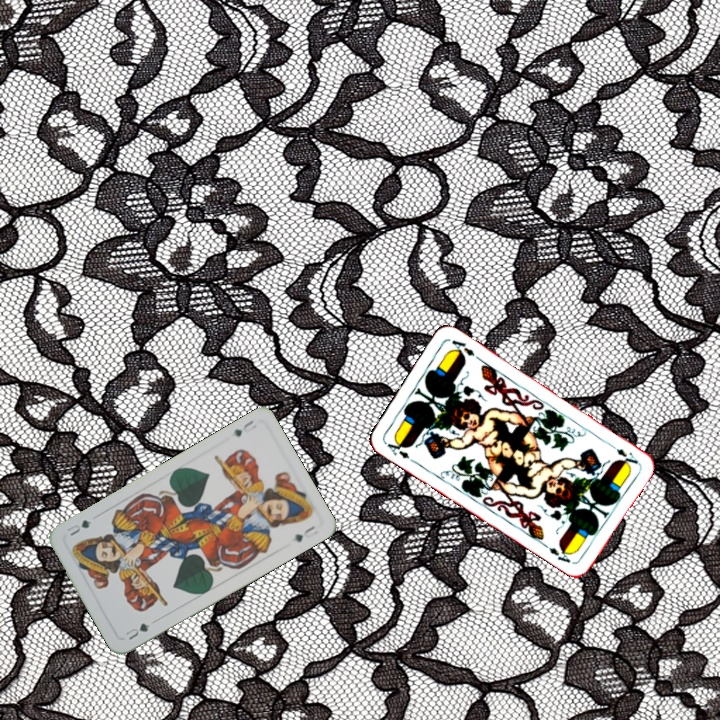EA: (605, 439, 641, 467), (381, 436, 412, 461)
GU: (120, 619, 153, 643), (229, 416, 258, 439)
